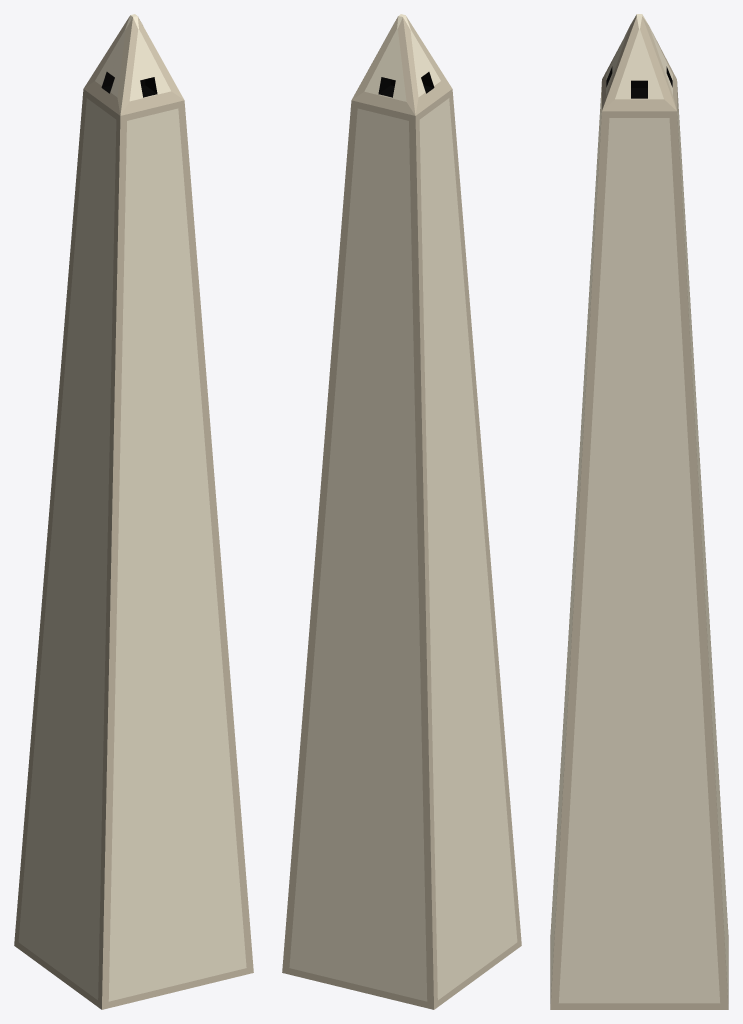
The model's file is obelisco_new.glb.
3 views of the same model, side by side, from view 1: azimuth 30°, elevation 25°; view 2: azimuth 150°, elevation 25°; view 3: azimuth 270°, elevation 25° (orthographic).
Visible parts, largest first — view 1: obelisco; view 2: obelisco; view 3: obelisco.
Part boxes in pixels (x1,y1,x2,y2): obelisco: [14, 14, 253, 1009]; obelisco: [282, 14, 521, 1009]; obelisco: [550, 14, 728, 1009].
Size of what is drawn, in the model's own units: 10.45 by 62 by 10.45.
Materials: 1 (1 with a texture image).
